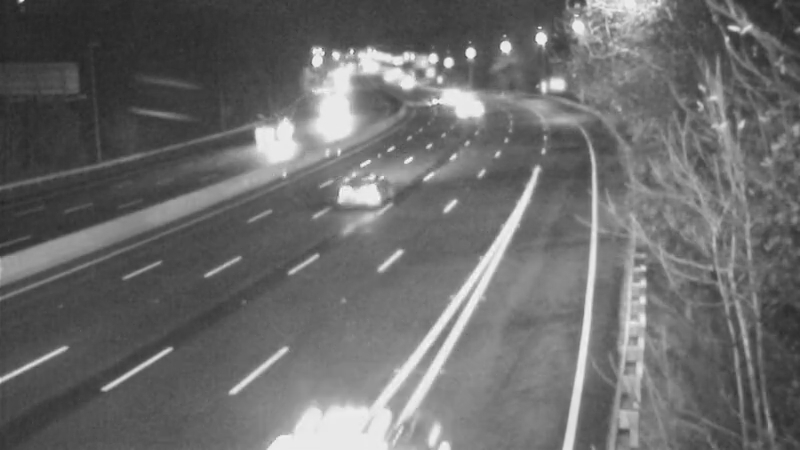vehicle: (328, 151, 408, 231), (437, 72, 487, 122), (403, 73, 453, 123), (445, 87, 495, 137), (255, 109, 305, 159), (309, 93, 359, 143)
